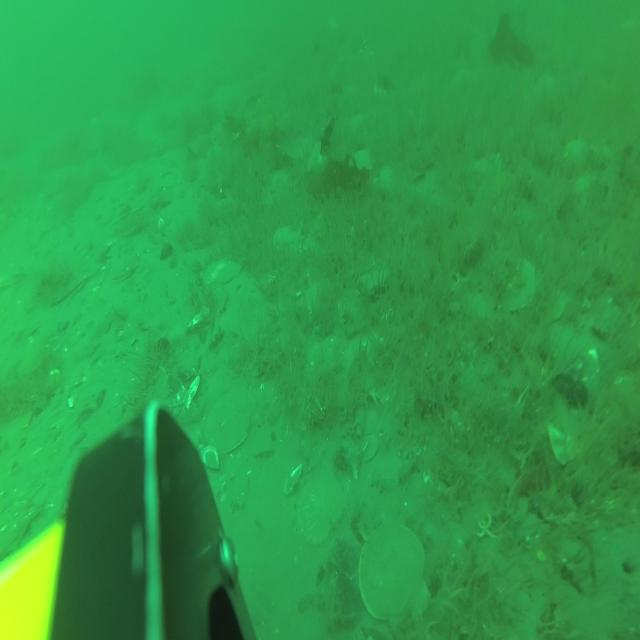scallop: (360, 517, 428, 634), (298, 470, 347, 546), (207, 390, 253, 455), (502, 261, 538, 311), (203, 256, 241, 286), (111, 254, 139, 283), (274, 224, 300, 251), (350, 149, 375, 173)
